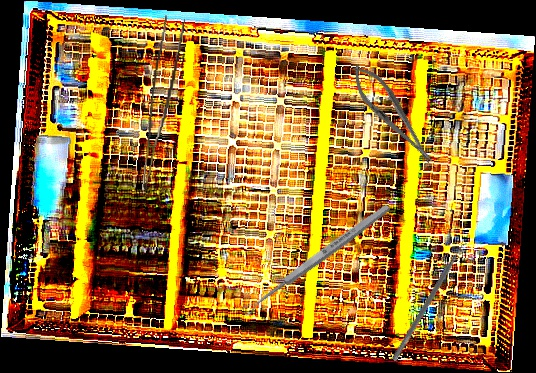Needle Holder: (343, 57, 442, 172)
Spatula Surgical: (391, 239, 471, 365)
Surgical Spoon: (240, 202, 392, 317)
Tissue Forceps: (141, 14, 186, 193)
